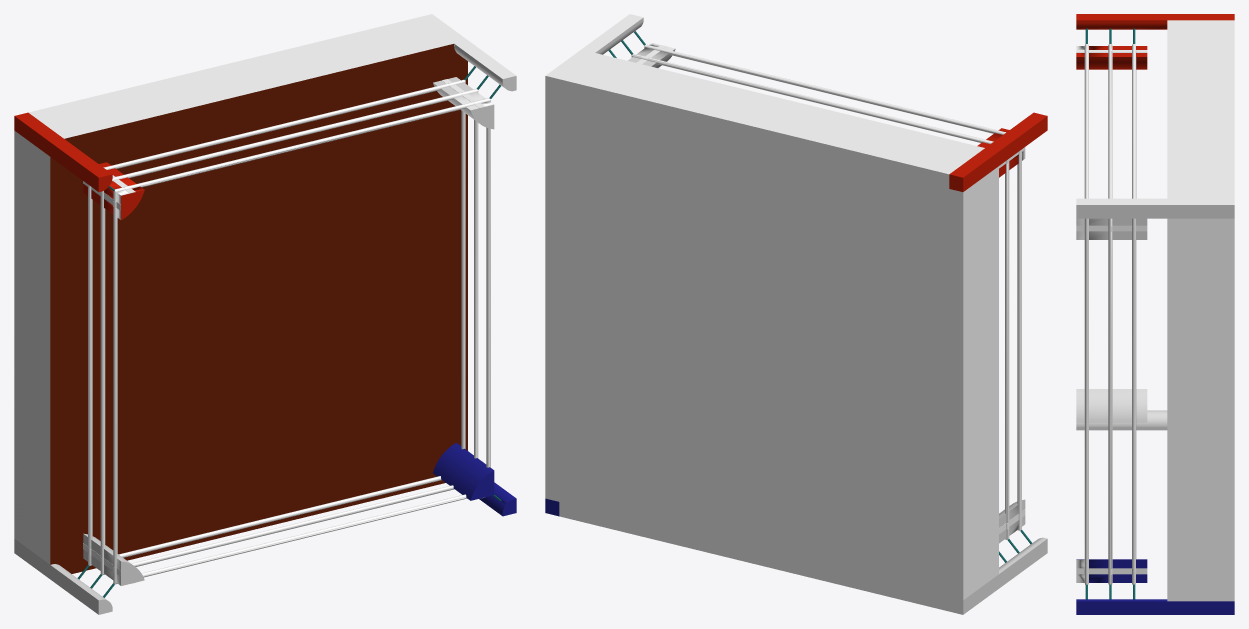
The model's file is ring.obj.
3 views of the same model, side by side, from view 1: azimuth 30°, elevation 25°; view 2: azimuth 150°, elevation 25°; view 3: azimuth 270°, elevation 25° (orthographic). The views are drawn at different scales.
Visible parts, largest first — view 1: Mesh1 Model, Mesh2 Model; view 2: Mesh1 Model; view 3: Mesh1 Model, Mesh2 Model.
Part boxes in pixels (bbox=[...]): Mesh1 Model: bbox=[14, 14, 516, 614]; Mesh2 Model: bbox=[88, 79, 465, 565]; Mesh1 Model: bbox=[545, 14, 1047, 614]; Mesh1 Model: bbox=[1076, 14, 1234, 614]; Mesh2 Model: bbox=[1132, 44, 1136, 584].
Size of the model in its own units: 8.51 by 8.51 by 2.98.
